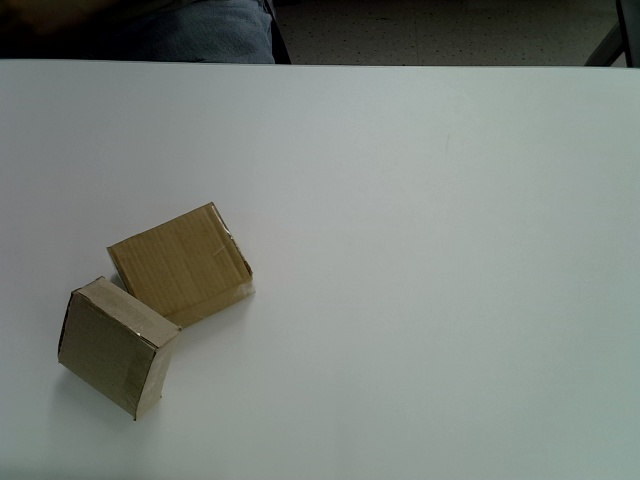normal: (106, 199, 253, 334), (57, 277, 182, 421)
